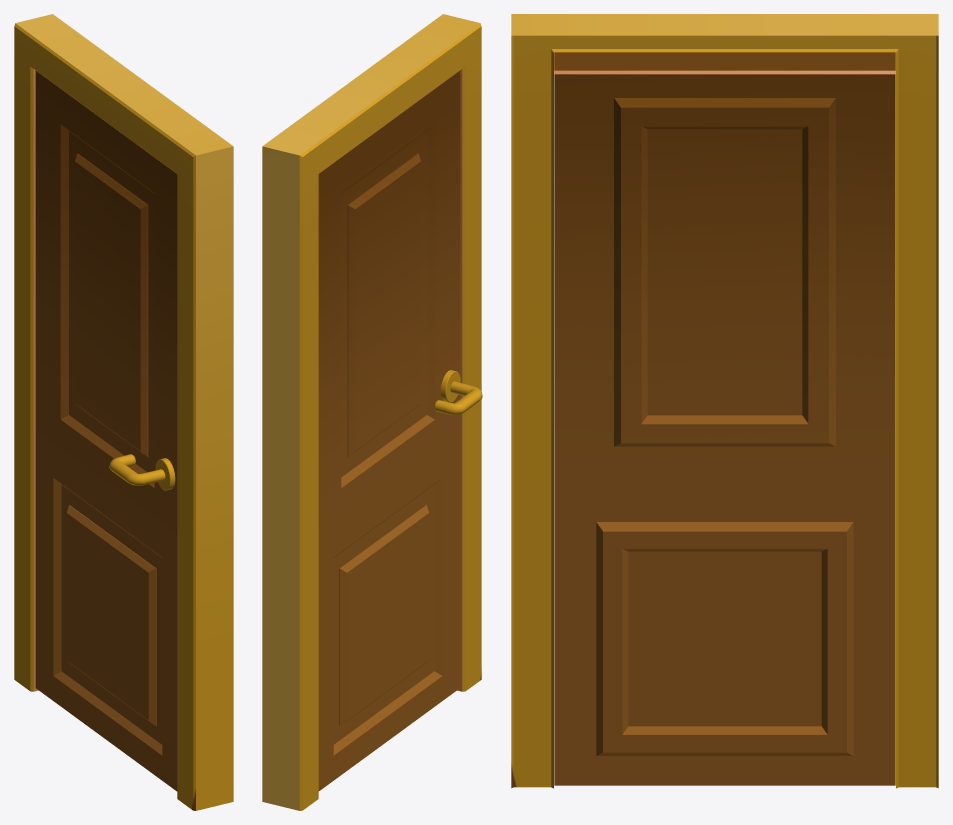
Rendered from SM_Door.fbx.
3 views of the same model, side by side, from view 1: azimuth 30°, elevation 25°; view 2: azimuth 150°, elevation 25°; view 3: azimuth 270°, elevation 25° (orthographic). The views are drawn at different scales.
Parts seen in each view (by area): view 1: SM_Door; view 2: SM_Door; view 3: SM_Door.
Boxes of the visible parts, x1,y1,x2,y2 form: SM_Door: (14, 14, 233, 810); SM_Door: (262, 14, 482, 810); SM_Door: (511, 14, 938, 788).
Bounding box in the file's own units: 29.13 × 246 × 123.
